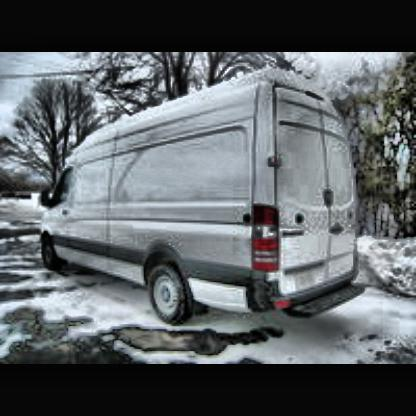Dodge Sprinter Cargo Van 2009: (40, 74, 368, 331)
